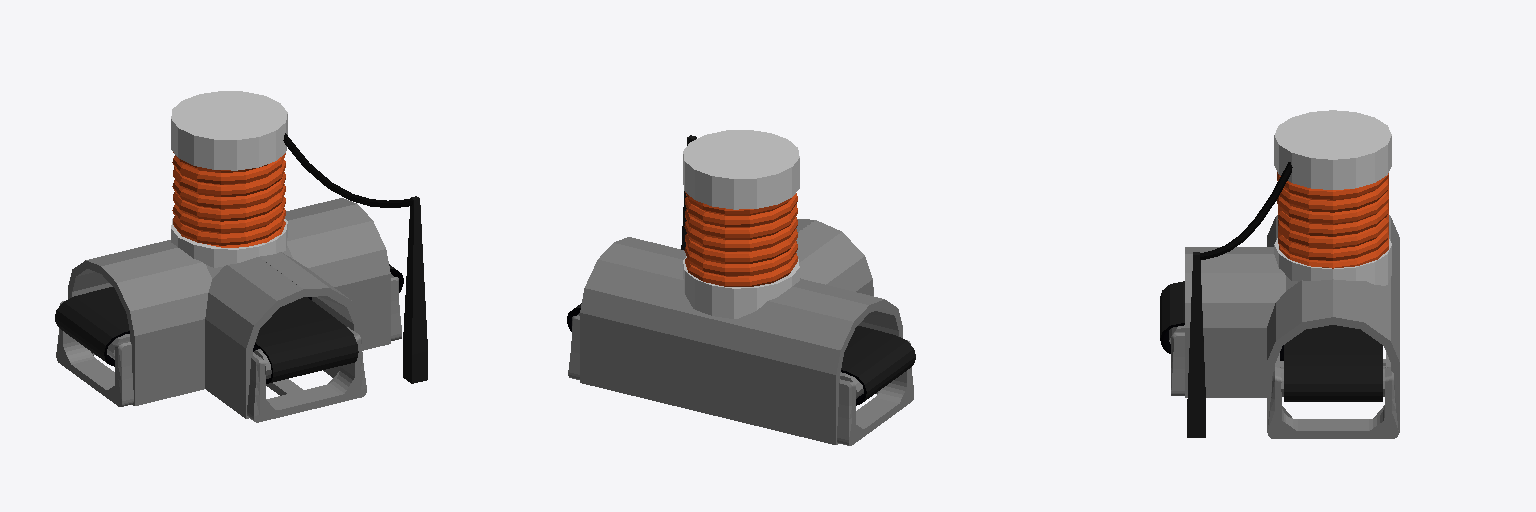
Rendered from ElectromagneticSorter.obj.
3 renders of one model, left to right at view 1: azimuth 30°, elevation 25°; view 2: azimuth 150°, elevation 25°; view 3: azimuth 270°, elevation 25°, orthographic.
Parts seen in each view (by area): view 1: Plane.001, Cylinder, Spiral, legs.002, belt.003, belt.002, Cube, NurbsPath; view 2: Plane.001, Cylinder, Spiral, legs.002, belt.002; view 3: Plane.001, Cylinder, Spiral, belt.002, legs.002, Cube, belt.003, NurbsPath.
Boxes of the visible parts, box(x1,y1,x2,y2) form: Plane.001: box(68, 198, 390, 418); Cylinder: box(171, 91, 287, 267); Spiral: box(172, 152, 285, 247); legs.002: box(56, 276, 401, 422); belt.003: box(253, 297, 358, 383); belt.002: box(55, 264, 403, 366); Cube: box(403, 196, 427, 383); NurbsPath: box(283, 133, 412, 207); Plane.001: box(580, 219, 902, 444); Cylinder: box(683, 130, 799, 318); Spiral: box(684, 192, 797, 286); legs.002: box(568, 287, 913, 445); belt.002: box(567, 303, 915, 405); Plane.001: box(1185, 215, 1399, 432); Cylinder: box(1274, 110, 1391, 285); Spiral: box(1277, 172, 1388, 268); belt.002: box(1284, 325, 1382, 401); legs.002: box(1171, 332, 1398, 438); Cube: box(1187, 252, 1205, 437); belt.003: box(1160, 281, 1283, 360); NurbsPath: box(1200, 162, 1292, 259).
Size of the model in its own units: 2.98 by 2.3 by 2.06.